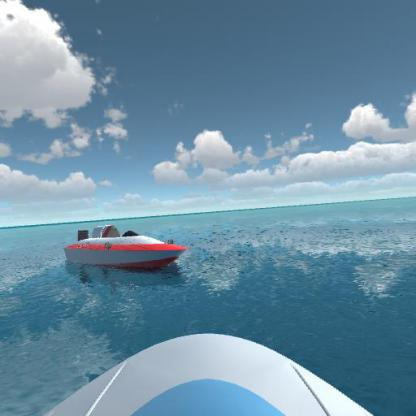usv3: (61, 218, 189, 276)
